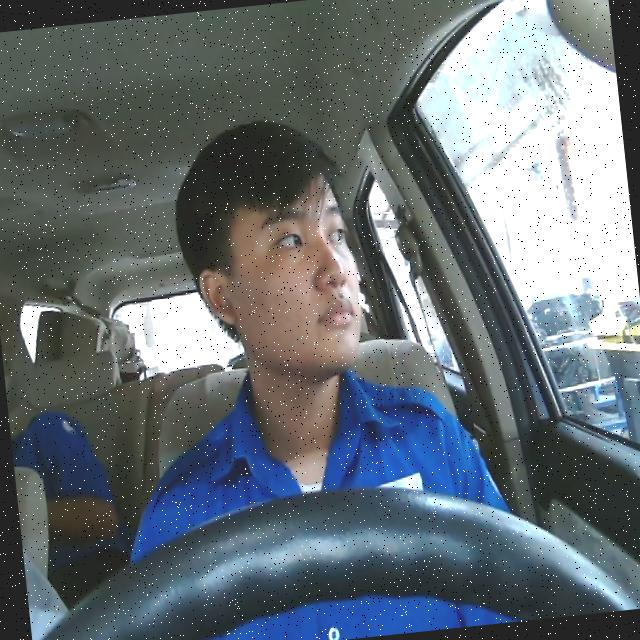seeing_right: (185, 166, 368, 386)
